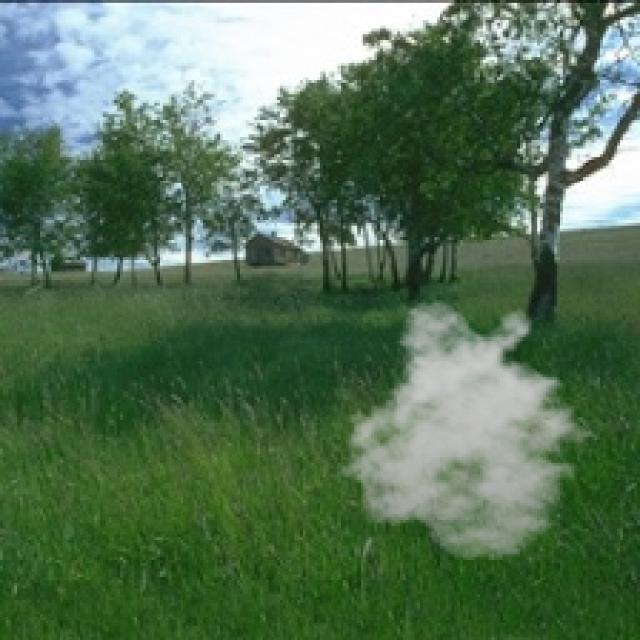smoke: (337, 300, 609, 563)
